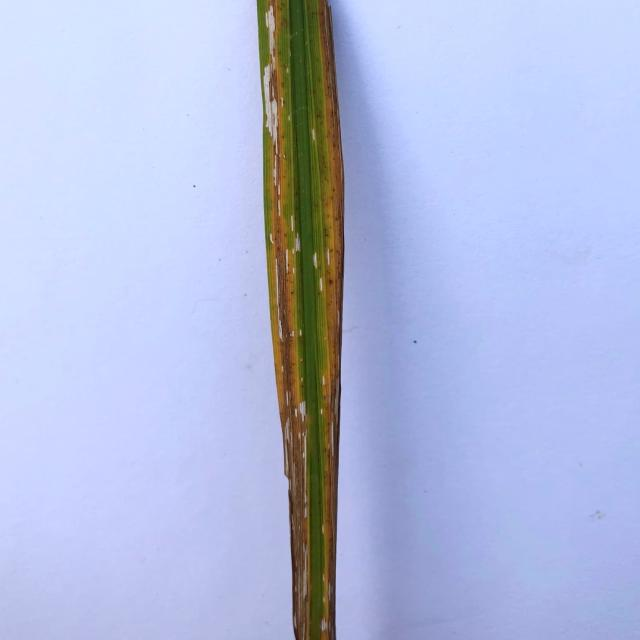tungro: (261, 51, 305, 489), (312, 0, 337, 640)
